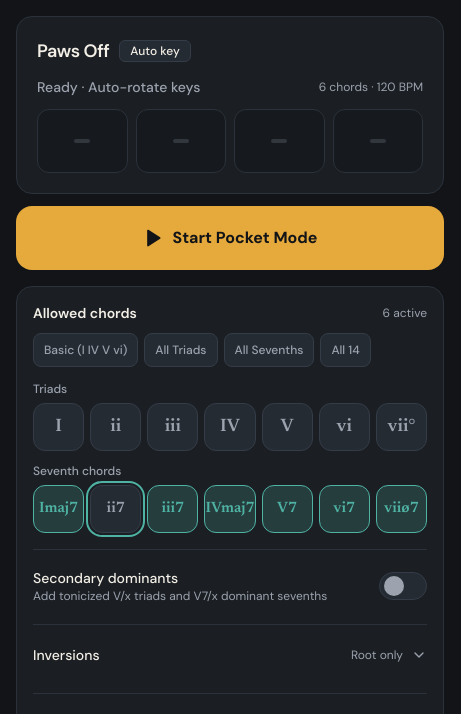
Test: Paws Off App UI › toggles chords, applies quick-select presets, and prevents deselecting the final chord
The image size is (461, 714).
Earlier steps of the test are not shown.
Check: the text "6 active" is shown, box [383,305,427,321]
Click the button with aria-label "seventh Imaj7" at coordinates (59, 509), box [33,485,84,533]
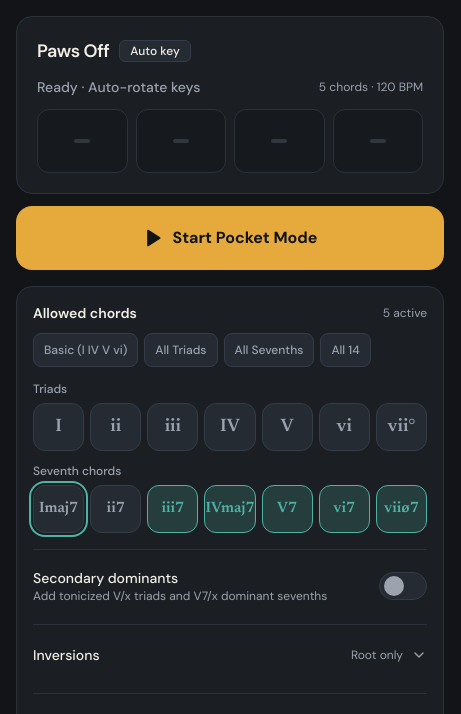
Click the button with aria-label "seventh iii7" at coordinates (173, 509), box [147,485,198,533]
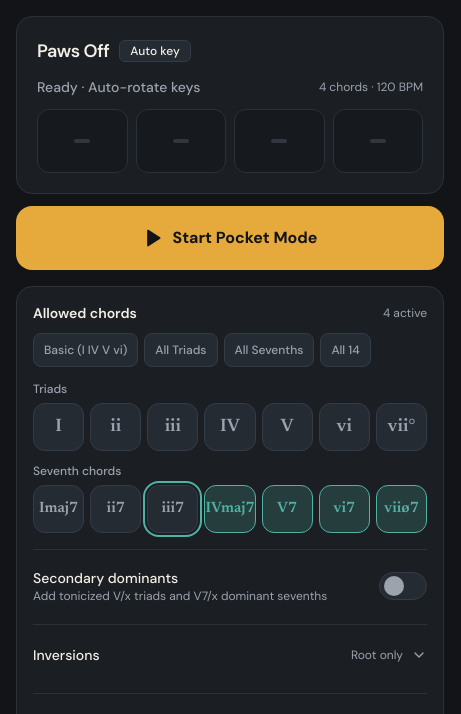
Click the button with aria-label "seventh IVmaj7" at coordinates (230, 509), box [204,485,256,533]
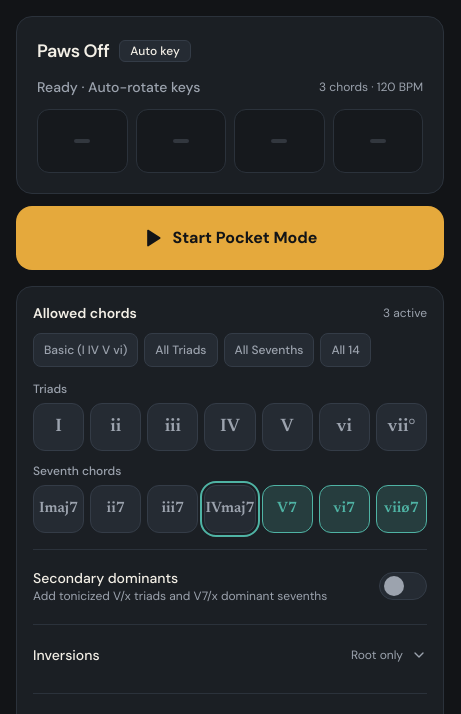
Click the button named "seventh V7" at coordinates (287, 509), box [262,485,313,533]
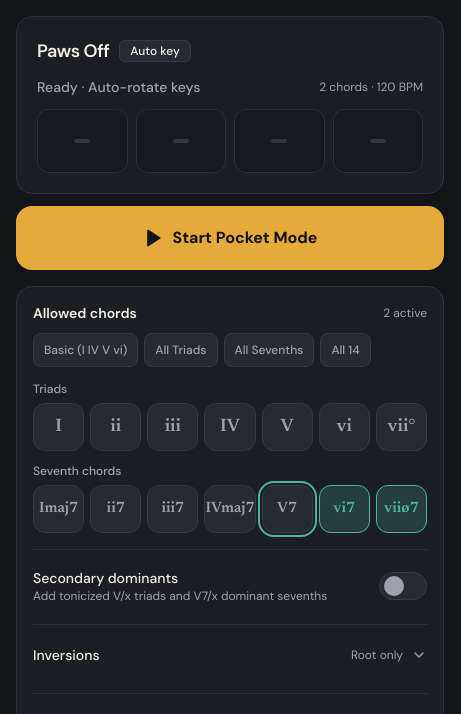
Click the button with aria-label "seventh vi7" at coordinates (344, 509), box [319,485,370,533]
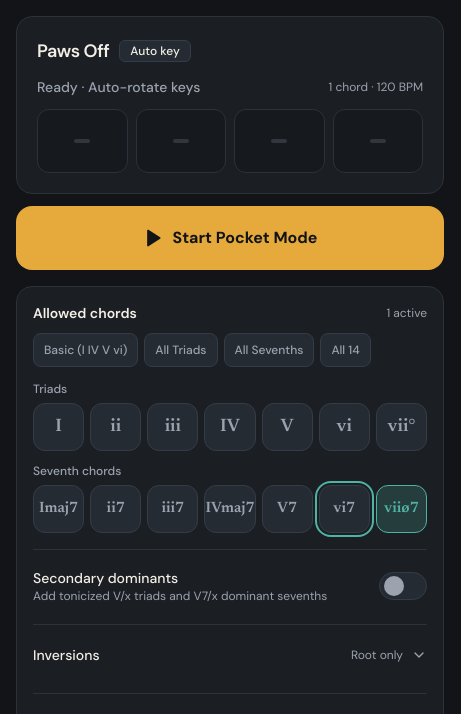
Check: the text "1 active" is shown, box [386,305,427,321]
Click the button with aria-label "seventh viiø7" at coordinates (401, 509), box [376,485,427,533]
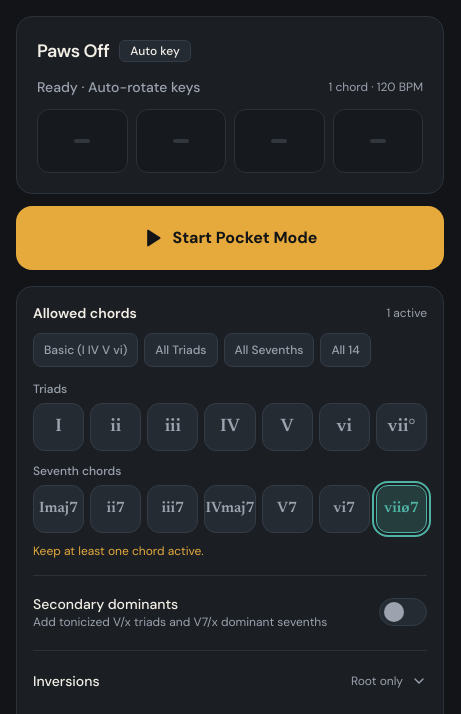
Check: the text "1 active" is shown, box [386,305,427,321]
Check: the text "Keep at least one chord active." is shown, box [33,543,204,559]
